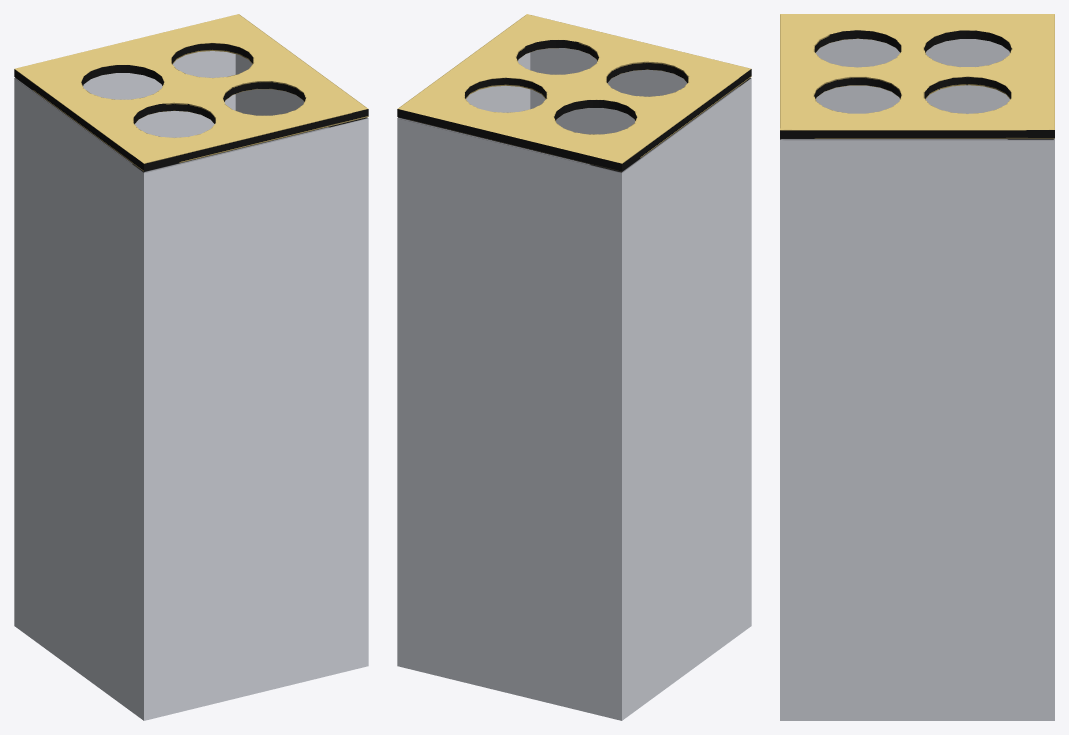
File: trashcan_holes.fbx
3 renders of one model, left to right at view 1: azimuth 30°, elevation 25°; view 2: azimuth 150°, elevation 25°; view 3: azimuth 270°, elevation 25°, orthographic. The views are drawn at different scales.
Visible parts, largest first — view 1: Bin_cups; view 2: Bin_cups; view 3: Bin_cups.
Part boxes in pixels (box(x1,y1,x2,y2)): Bin_cups: box(14, 14, 368, 720); Bin_cups: box(397, 14, 751, 720); Bin_cups: box(780, 14, 1054, 720).
Size of the model in its own units: 30 by 71.16 by 30.
